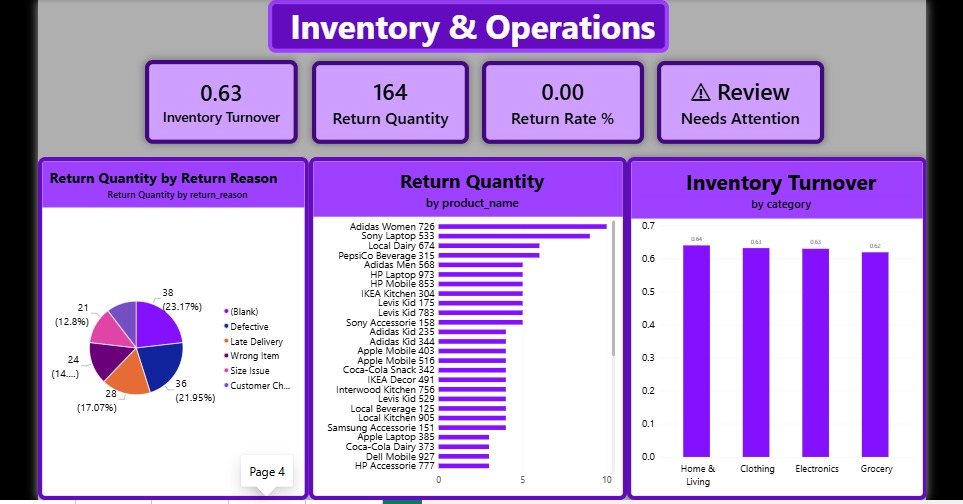

This screenshot's page, from the dashboard's own definition file:
{"tool":"powerbi","page":{"name":"Page 4","canvas":[1920,1080],"ordinal":3},"visuals":[{"type":"clusteredBarChart","fields":{"Category":["Dim_Product.product_name"],"Y":["Fact_Inventory.Return Quantity"]},"box":[585.4,339.1,686.9,740.9],"z":0},{"type":"clusteredColumnChart","fields":{"Y":["Fact_Inventory.Inventory Turnover"],"Category":["Dim_Product.category"]},"box":[1272.2,339.1,648,740.9],"z":1000},{"type":"cardVisual","title":"Return Quantity","fields":{"Data":["Fact_Inventory.Return Quantity"]},"box":[591.8,131.8,339.1,179.3],"z":2000},{"type":"cardVisual","title":"Return Rate","fields":{"Data":["Fact_Inventory.Return Rate %"]},"box":[959,131.8,349.9,179.3],"z":3000},{"type":"cardVisual","title":"Inventry Turnover","fields":{"Data":["Fact_Inventory.Inventory Turnover"]},"box":[231.1,129.6,330.5,181.4],"z":4000},{"type":"pieChart","title":"Return Quantity by Return Reason","fields":{"Category":["Fact_Returns.return_reason"],"Y":["Fact_Inventory.Return Quantity"]},"box":[0,339.1,585.4,740.9],"z":5000},{"type":"textbox","title":" Inventory & Operations ","box":[496.8,0,866.2,114.5],"z":6000},{"type":"cardVisual","title":"Needs Atention","fields":{"Data":["Fact_Sales.Needs Attention"]},"box":[1337,131.8,360.7,179.3],"z":7000},{"type":"actionButton","box":[1710.7,13,170.6,60.5],"z":7001}]}

Visuals, with their boxes in screenshot pixels (x1, y1, x2, y2):
clusteredBarChart - Dim_Product.product_name x Fact_Inventory.Return Quantity: rect(310, 156, 626, 497)
clusteredColumnChart - Fact_Inventory.Inventory Turnover x Dim_Product.category: rect(626, 156, 924, 497)
"Return Quantity" cardVisual: rect(313, 61, 469, 143)
"Return Rate" cardVisual: rect(482, 61, 643, 143)
"Inventry Turnover" cardVisual: rect(146, 60, 299, 143)
"Return Quantity by Return Reason" pieChart: rect(40, 156, 310, 497)
" Inventory & Operations " textbox: rect(269, 0, 667, 53)
"Needs Atention" cardVisual: rect(656, 61, 822, 143)
actionButton: rect(828, 6, 906, 34)
